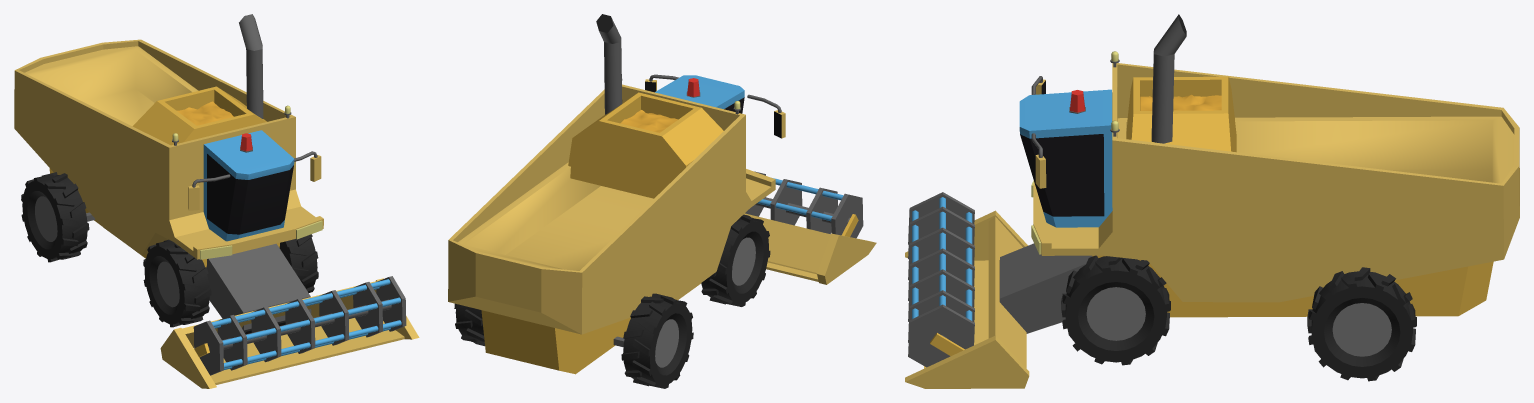
Rendered from Harvester_03_Fix.fbx.
3 views of the same model, side by side, from view 1: azimuth 30°, elevation 25°; view 2: azimuth 150°, elevation 25°; view 3: azimuth 270°, elevation 25° (orthographic). The views are drawn at different scales.
Visible parts, largest first — view 1: Harvester_03_Fix, Harvester_03_Roll, Harvester_03_Roll_Cover, Harvester_03_Front_Tube, Harvester_03_Wheel_02.002, Harvester_03_Wheel_02, Harvester_03_Wheel_01; view 2: Harvester_03_Fix, Harvester_03_Wheel_02.002, Harvester_03_Roll_Cover, Harvester_03_Wheel_02, Harvester_03_Roll, Harvester_03_Wheel_01.002; view 3: Harvester_03_Fix, Harvester_03_Roll, Harvester_03_Wheel_01.002, Harvester_03_Wheel_01, Harvester_03_Roll_Cover, Harvester_03_Front_Tube.
Boxes of the visible parts, box(x1,y1,x2,y2) form: Harvester_03_Fix: box(14, 14, 323, 267); Harvester_03_Roll: box(193, 276, 406, 375); Harvester_03_Roll_Cover: box(160, 278, 419, 388); Harvester_03_Front_Tube: box(206, 243, 311, 334); Harvester_03_Wheel_02.002: box(21, 172, 89, 262); Harvester_03_Wheel_02: box(143, 239, 211, 327); Harvester_03_Wheel_01: box(279, 234, 318, 292); Harvester_03_Fix: box(448, 14, 785, 374); Harvester_03_Wheel_02.002: box(621, 293, 693, 388); Harvester_03_Roll_Cover: box(744, 213, 876, 284); Harvester_03_Wheel_02: box(701, 214, 770, 306); Harvester_03_Roll: box(745, 171, 863, 238); Harvester_03_Wheel_01.002: box(454, 303, 484, 346); Harvester_03_Fix: box(1019, 14, 1519, 317); Harvester_03_Roll: box(908, 192, 974, 367); Harvester_03_Wheel_01.002: box(1307, 267, 1416, 381); Harvester_03_Wheel_01: box(1061, 255, 1170, 365); Harvester_03_Roll_Cover: box(905, 210, 1029, 388); Harvester_03_Front_Tube: box(999, 243, 1092, 333).
Bounding box in the file's own units: 660 × 797 × 1326.
